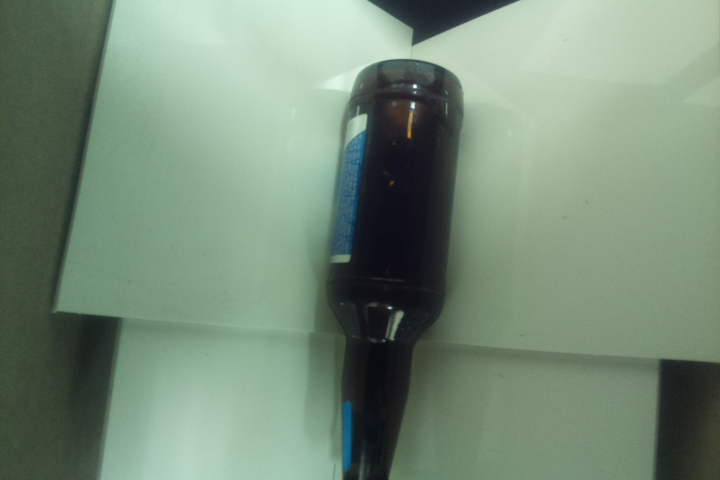makju: (319, 56, 465, 480)
